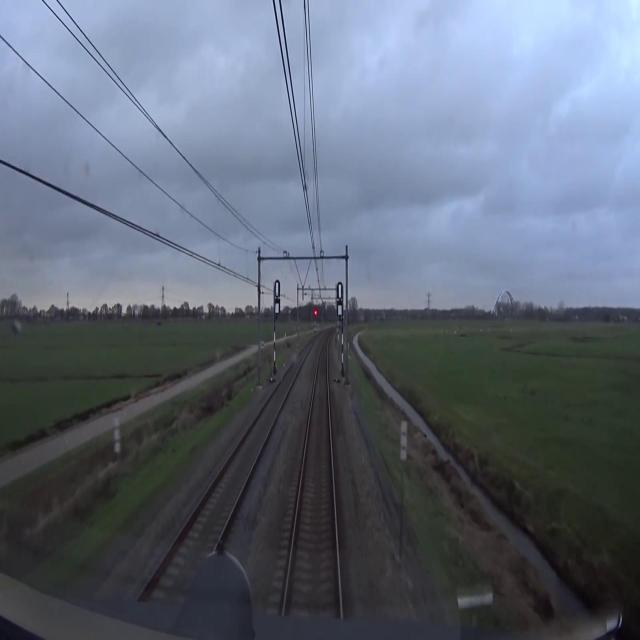rail-track: (114, 345, 309, 639), (282, 338, 340, 639)
